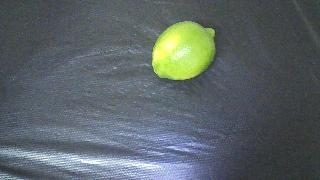LOCAL: (152, 21, 216, 80)
